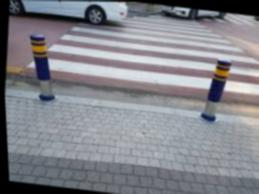Animal: (190, 55, 243, 122), (23, 34, 68, 99)
